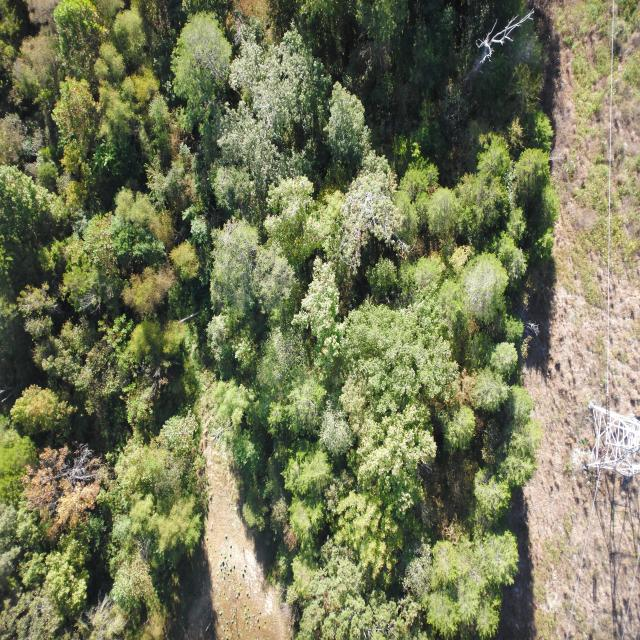Area of Interest: (7, 10, 555, 632)
